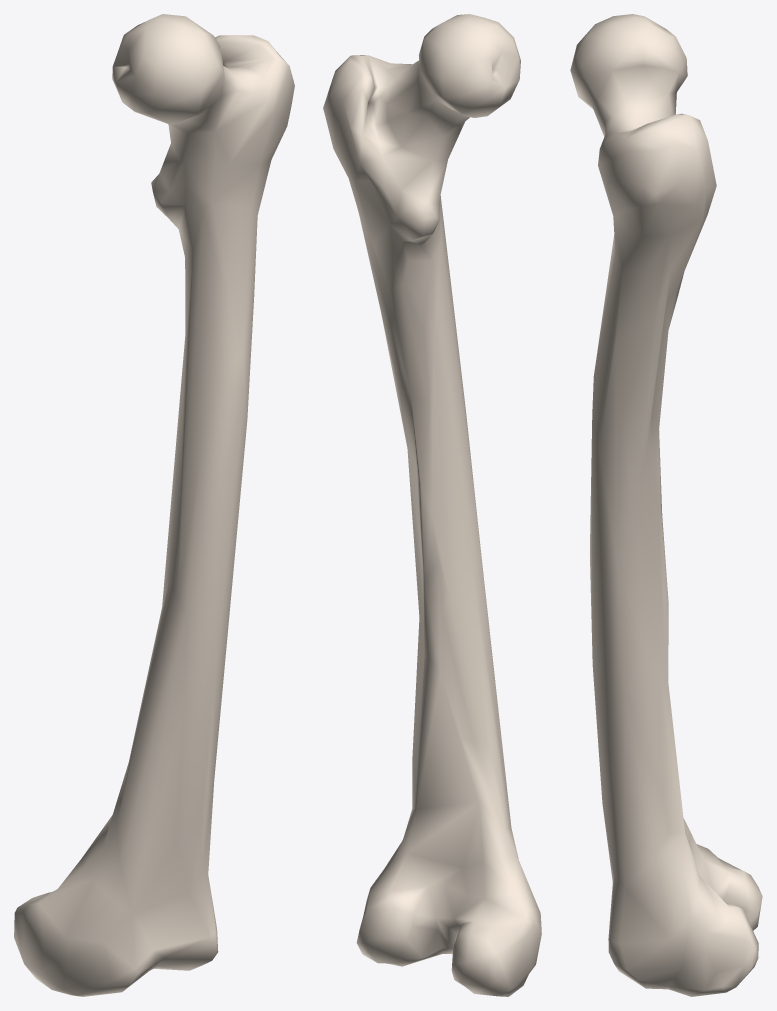
File: left_femur.glb
The picture shows the model from 3 angles, left to right: view 1: azimuth 30°, elevation 25°; view 2: azimuth 150°, elevation 25°; view 3: azimuth 270°, elevation 25°; orthographic projection. The views are drawn at different scales.
Parts seen in each view (by area): view 1: Femur.r; view 2: Femur.r; view 3: Femur.r.
Boxes of the visible parts, x1,y1,x2,y2 form: Femur.r: [14, 14, 294, 996]; Femur.r: [323, 14, 541, 996]; Femur.r: [570, 14, 762, 996].
Size of the model in its own units: 0.0864 by 0.3376 by 0.0612.
